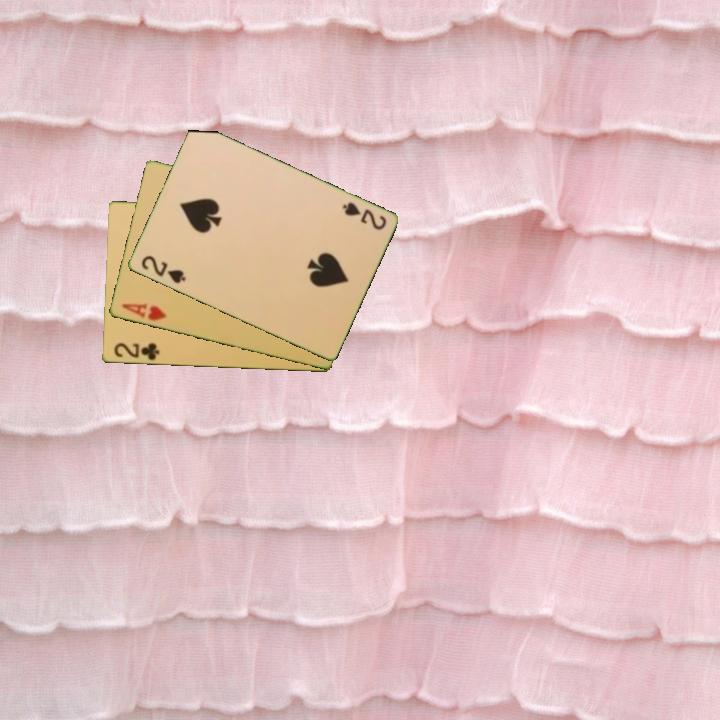2c: (110, 340, 162, 363)
2s: (137, 252, 188, 287), (338, 198, 389, 233)
Ah: (118, 300, 169, 324)
